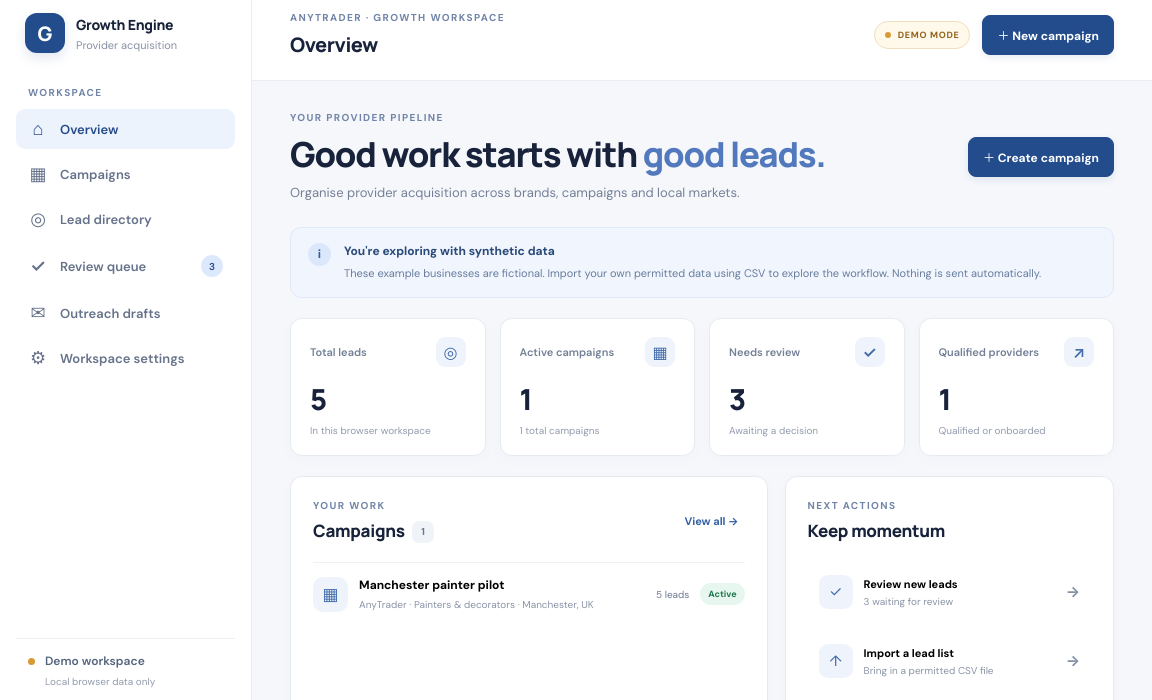
Scenario: Growth Engine interactive workflows › marks a lead do-not-contact and disables its draft action
The image size is (1152, 700).
Click the button "◎ Lead directory".
click(126, 219)  # box [16,199,235,239]
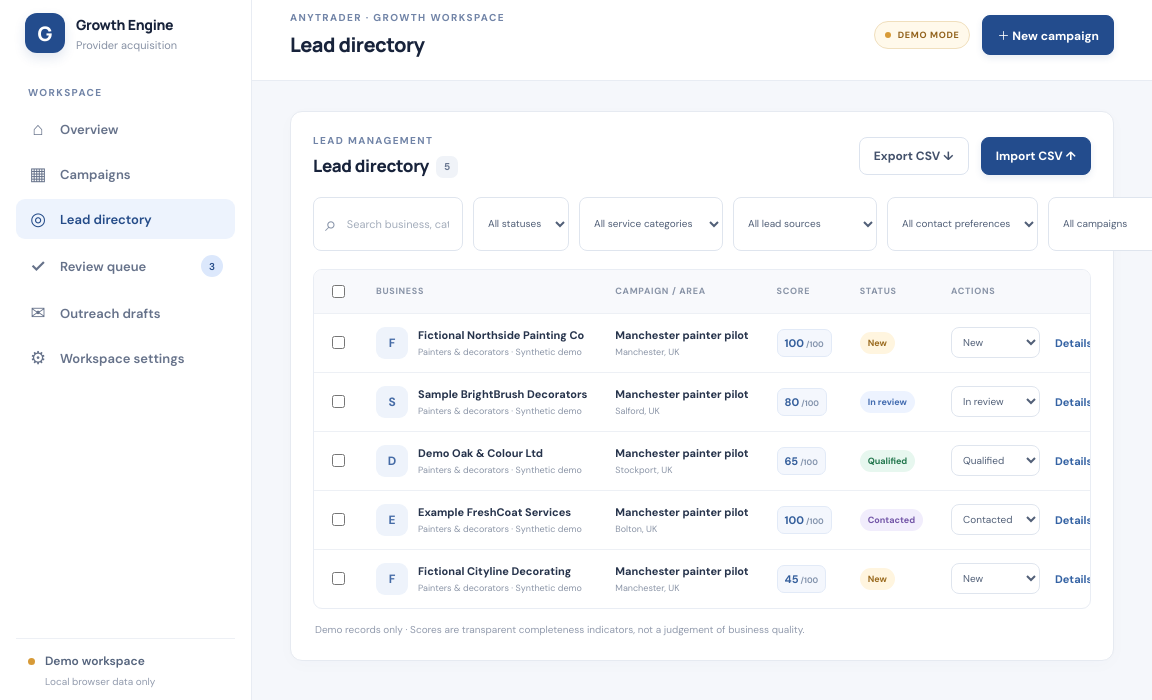
Expected: the text "Fictional Northside Painting Co" is shown, [418,328,584,342]
Click the button "Details" in the row of "Fictional Northside Painting Co".
click(1074, 342)  # box [1049,334,1098,350]
(page scrolled)
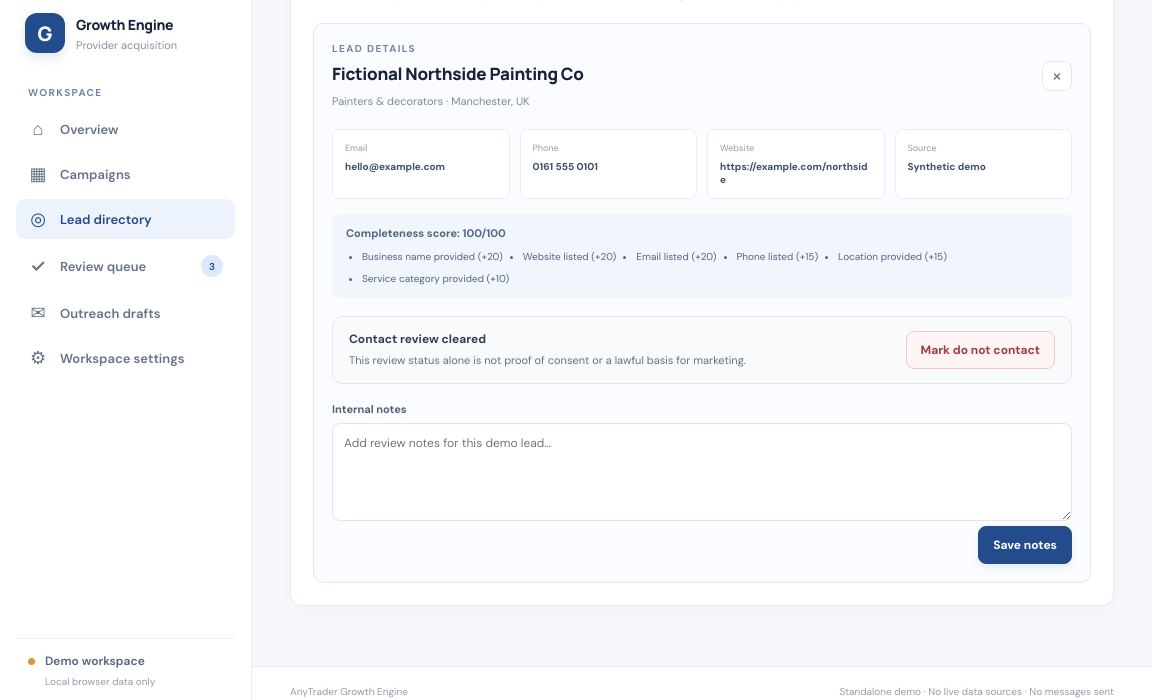
Click the button "Mark do not contact".
click(980, 350)  # box [906,331,1055,369]
(page scrolled)
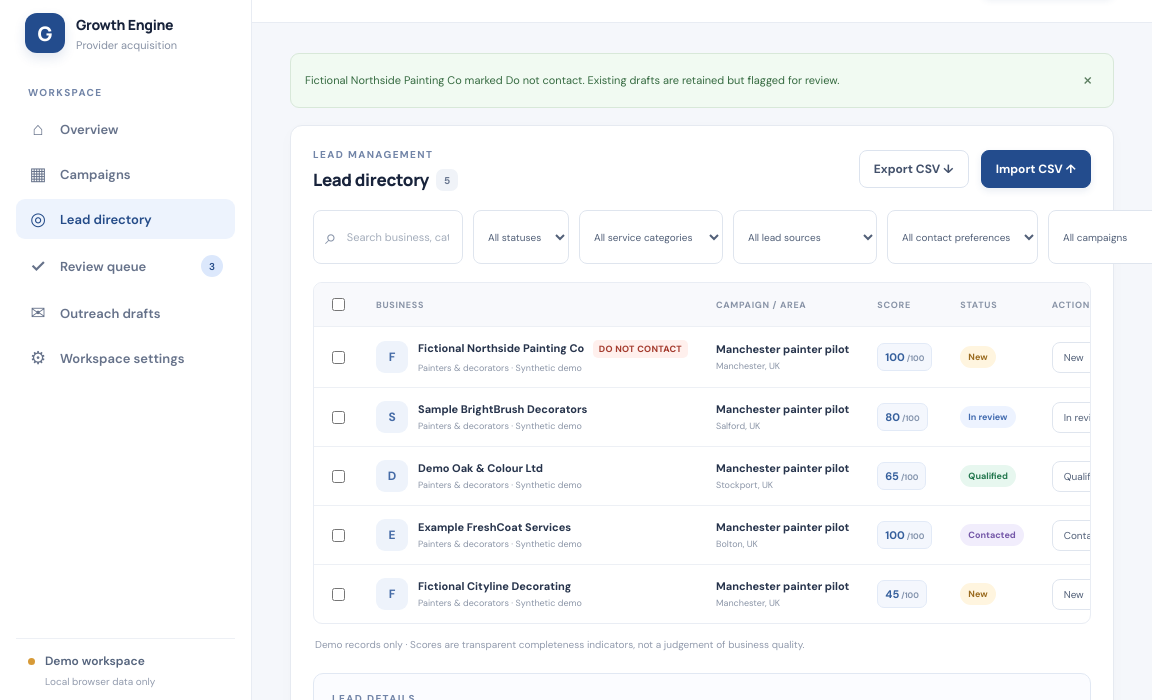
Expected: the message shows "marked Do not contact", [305,73,840,87]
Expected: the text "DO NOT CONTACT" is shown, [593,340,688,358]
